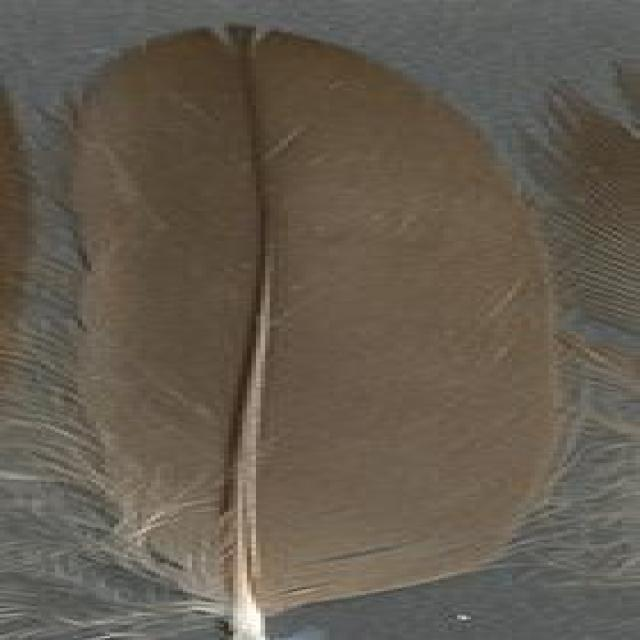feather: (31, 17, 572, 640)
